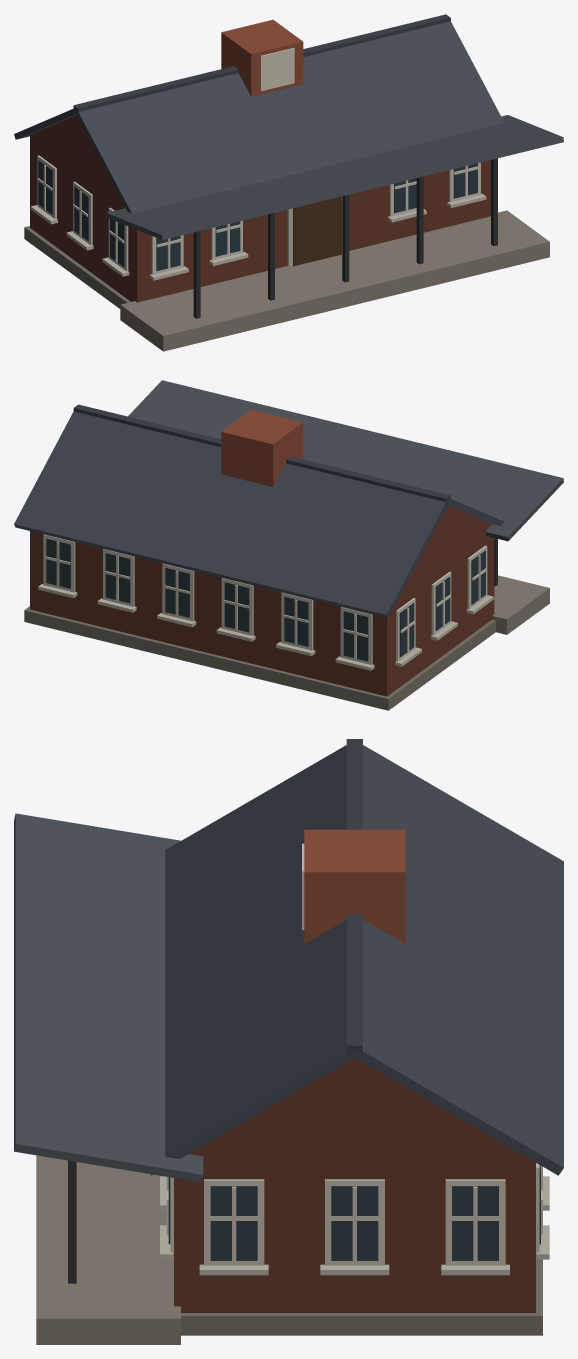
The model's file is procedural_railstation@5.glb.
The picture shows the model from 3 angles, top to bottom: view 1: azimuth 30°, elevation 25°; view 2: azimuth 150°, elevation 25°; view 3: azimuth 270°, elevation 25°; orthographic projection. The views are drawn at different scales.
Parts seen in each view (by area): view 1: part_0; view 2: part_0; view 3: part_0.
Boxes of the visible parts, x1,y1,x2,y2 form: part_0: (14,14,563,351); part_0: (14,380,563,710); part_0: (14,739,563,1344).
Bounding box in the file's own units: 10.8 × 5.1 × 7.6.
